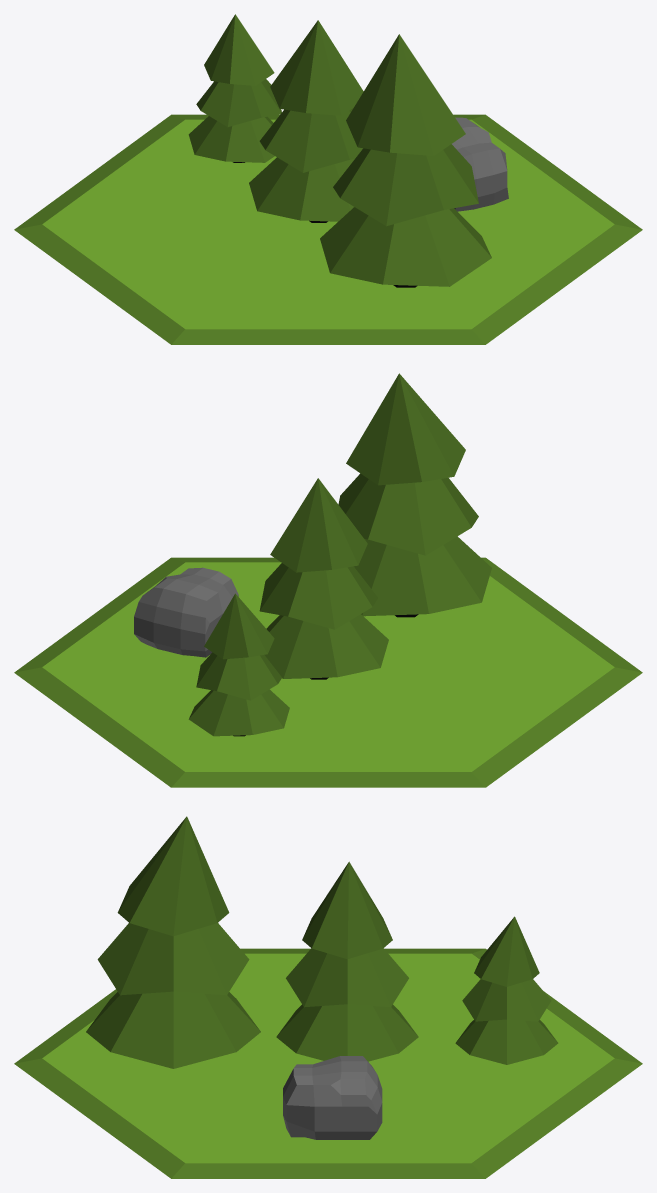
The model's file is PropsNew.fbx.
3 views of the same model, one above another, from view 1: azimuth 30°, elevation 25°; view 2: azimuth 150°, elevation 25°; view 3: azimuth 270°, elevation 25° (orthographic).
Parts seen in each view (by area): view 1: Hexagon, Tree.001, Tree.002, Tree.003, Rock; view 2: Hexagon, Tree.001, Tree.002, Tree.003, Rock; view 3: Hexagon, Tree.001, Tree.002, Tree.003, Rock.
Part boxes in pixels (box(x1,y1,x2,y2)): Hexagon: box(14, 114, 642, 344); Tree.001: box(320, 34, 491, 287); Tree.002: box(249, 20, 363, 222); Tree.003: box(188, 14, 281, 162); Rock: box(452, 117, 508, 211); Hexagon: box(14, 557, 642, 787); Tree.001: box(338, 373, 491, 617); Tree.002: box(259, 478, 388, 679); Tree.003: box(188, 593, 289, 736); Rock: box(134, 567, 238, 657); Hexagon: box(14, 948, 642, 1178); Tree.001: box(86, 816, 260, 1068); Tree.002: box(276, 861, 418, 1061); Tree.003: box(455, 916, 558, 1064); Rock: box(283, 1056, 382, 1139).
Bounding box in the file's own units: 173 × 89.55 × 200.
